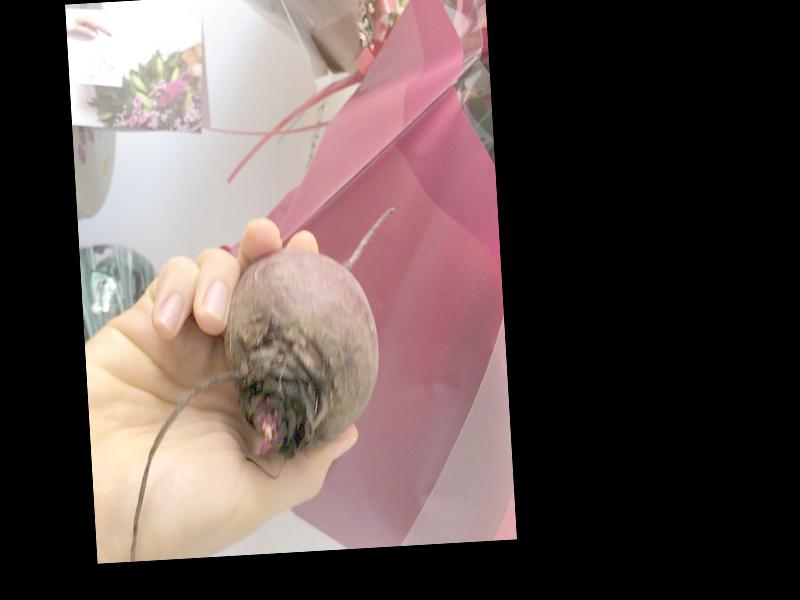Beet: (110, 203, 418, 557)
